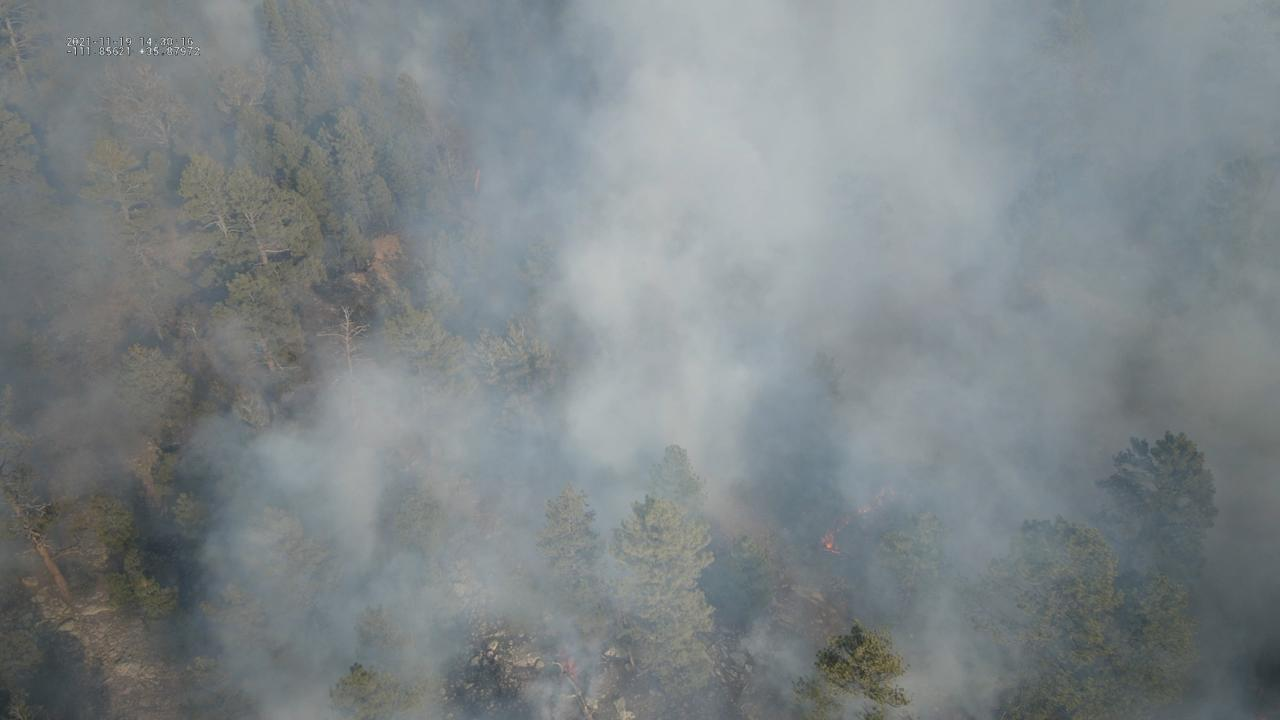fire: (818, 518, 848, 553)
smoke: (0, 0, 1280, 720)
